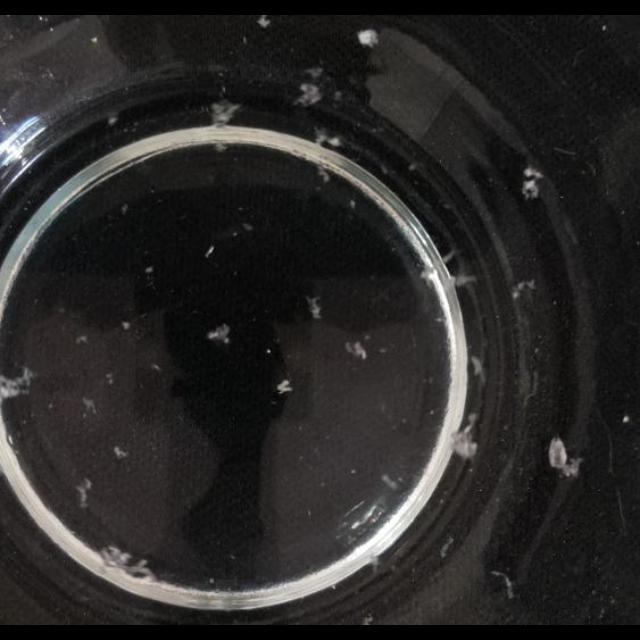Fibre: (96, 547, 160, 585), (548, 436, 584, 478), (1, 366, 37, 400), (450, 426, 478, 458), (209, 99, 241, 125), (520, 167, 544, 200), (293, 80, 323, 106), (313, 125, 342, 147), (206, 324, 232, 346), (74, 478, 92, 508), (344, 341, 368, 362), (511, 280, 535, 300), (356, 28, 379, 48), (306, 296, 322, 320), (82, 396, 98, 416), (276, 378, 294, 394), (112, 446, 128, 460), (256, 16, 272, 28), (120, 321, 132, 332), (75, 335, 87, 345)
microbeads: (370, 552, 388, 576), (105, 372, 115, 386), (150, 363, 162, 373), (349, 198, 356, 210), (144, 265, 154, 273), (350, 468, 356, 476), (210, 578, 217, 584)
